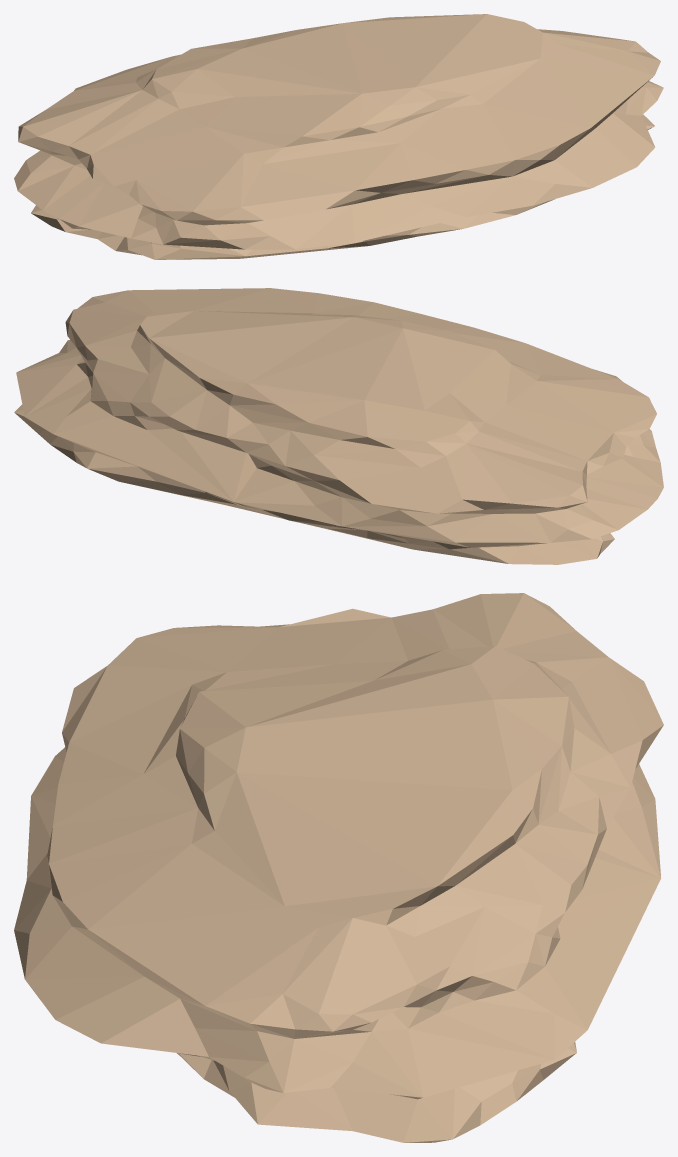
Rendered from SM_DST_Rock_Slab_A_Frac.fbx.
3 views of the same model, one above another, from view 1: azimuth 30°, elevation 25°; view 2: azimuth 150°, elevation 25°; view 3: azimuth 270°, elevation 25° (orthographic). The views are drawn at different scales.
Visible parts, largest first — view 1: SM_DST_Rock_Slab_A_p01, SM_DST_Rock_Slab_A_p05, SM_DST_Rock_Slab_A_p00, SM_DST_Rock_Slab_A_p04, SM_DST_Rock_Slab_A_p02, SM_DST_Rock_Slab_A_p03; view 2: SM_DST_Rock_Slab_A_p00, SM_DST_Rock_Slab_A_p03, SM_DST_Rock_Slab_A_p05, SM_DST_Rock_Slab_A_p02, SM_DST_Rock_Slab_A_p04, SM_DST_Rock_Slab_A_p01; view 3: SM_DST_Rock_Slab_A_p00, SM_DST_Rock_Slab_A_p02, SM_DST_Rock_Slab_A_p01, SM_DST_Rock_Slab_A_p03, SM_DST_Rock_Slab_A_p04, SM_DST_Rock_Slab_A_p05.
Boxes of the visible parts, bbox=[...] form: SM_DST_Rock_Slab_A_p01: bbox=[219, 89, 607, 258]; SM_DST_Rock_Slab_A_p05: bbox=[14, 90, 232, 259]; SM_DST_Rock_Slab_A_p00: bbox=[419, 14, 663, 180]; SM_DST_Rock_Slab_A_p04: bbox=[117, 55, 365, 187]; SM_DST_Rock_Slab_A_p02: bbox=[247, 16, 483, 96]; SM_DST_Rock_Slab_A_p03: bbox=[74, 35, 270, 91]; SM_DST_Rock_Slab_A_p00: bbox=[14, 288, 302, 489]; SM_DST_Rock_Slab_A_p03: bbox=[181, 395, 469, 554]; SM_DST_Rock_Slab_A_p05: bbox=[449, 387, 663, 564]; SM_DST_Rock_Slab_A_p02: bbox=[131, 313, 395, 506]; SM_DST_Rock_Slab_A_p04: bbox=[377, 328, 598, 461]; SM_DST_Rock_Slab_A_p01: bbox=[297, 291, 631, 387]; SM_DST_Rock_Slab_A_p00: bbox=[36, 832, 618, 1142]; SM_DST_Rock_Slab_A_p02: bbox=[208, 697, 639, 964]; SM_DST_Rock_Slab_A_p01: bbox=[14, 653, 250, 993]; SM_DST_Rock_Slab_A_p03: bbox=[467, 650, 663, 922]; SM_DST_Rock_Slab_A_p04: bbox=[167, 642, 528, 732]; SM_DST_Rock_Slab_A_p05: bbox=[121, 593, 609, 657].
Size of the model in its own units: 2.61 by 0.5103 by 1.56.
